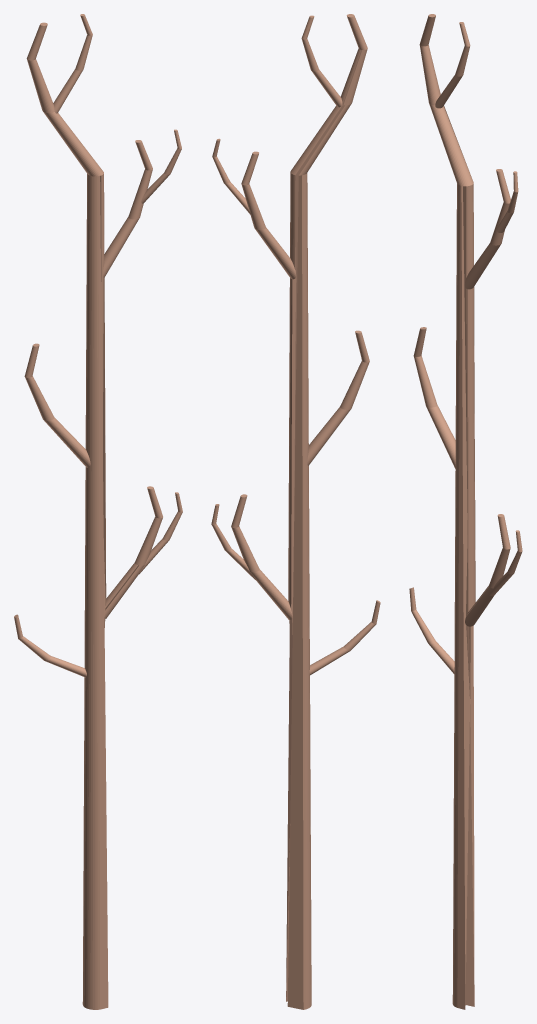
Rendered from trunk13.fbx.
The picture shows the model from 3 angles, left to right: view 1: azimuth 30°, elevation 25°; view 2: azimuth 210°, elevation 25°; view 3: azimuth 330°, elevation 25°; orthographic projection.
Visible parts, largest first — view 1: trunk13; view 2: trunk13; view 3: trunk13.
Part boxes in pixels (x1,y1,x2,y2): trunk13: [14, 14, 182, 1009]; trunk13: [211, 14, 380, 1009]; trunk13: [409, 14, 522, 1009].
Size of the model in its own units: 39.26 by 263 by 15.08.
